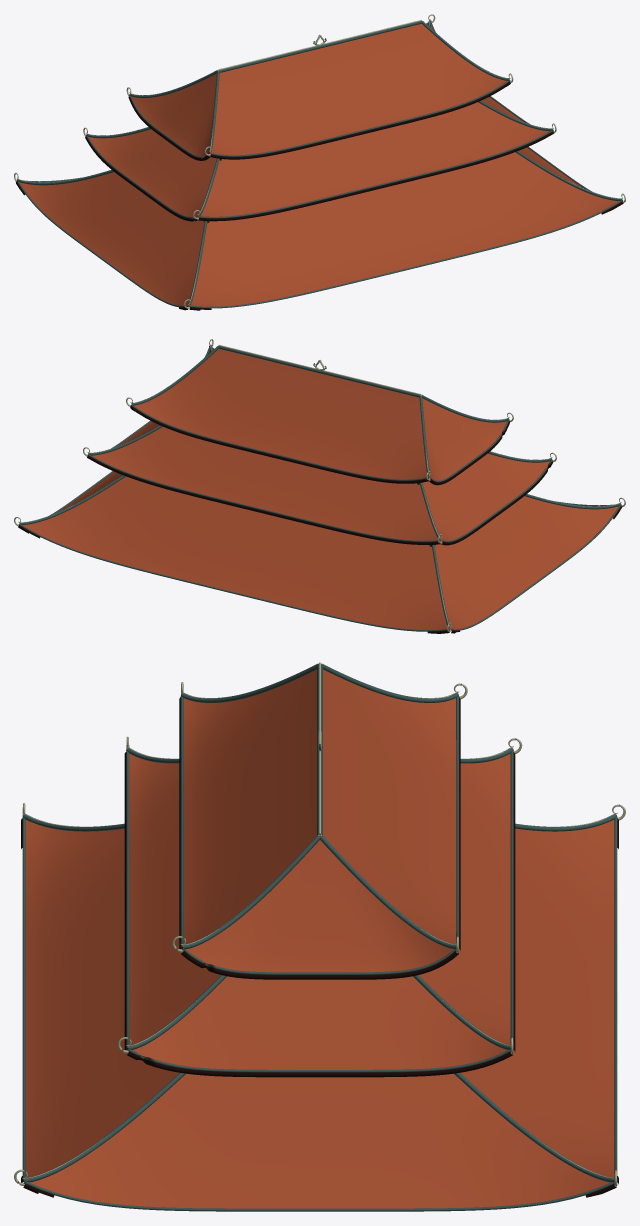
The model's file is tam-the-roof.glb.
3 views of the same model, one above another, from view 1: azimuth 30°, elevation 25°; view 2: azimuth 150°, elevation 25°; view 3: azimuth 270°, elevation 25° (orthographic). The views are drawn at different scales.
Parts seen in each view (by area): view 1: Exterior_11, Exterior_12, Exterior_6, Exterior_13; view 2: Exterior_11, Exterior_12, Exterior_6, Exterior_13; view 3: Exterior_11, Exterior_12, Exterior_6, Exterior_13.
Part boxes in pixels (x1,y1,x2,y2): Exterior_11: (19,23,619,306); Exterior_12: (16,20,622,308); Exterior_6: (16,23,623,310); Exterior_13: (14,14,625,308); Exterior_11: (22,349,618,629); Exterior_12: (18,345,621,631); Exterior_6: (18,349,622,633); Exterior_13: (14,339,625,632); Exterior_11: (24,669,614,1208); Exterior_12: (22,663,617,1211); Exterior_6: (21,697,618,1197); Exterior_13: (14,662,625,1186).
Size of the model in its own units: 60.47 by 22.52 by 41.88.
